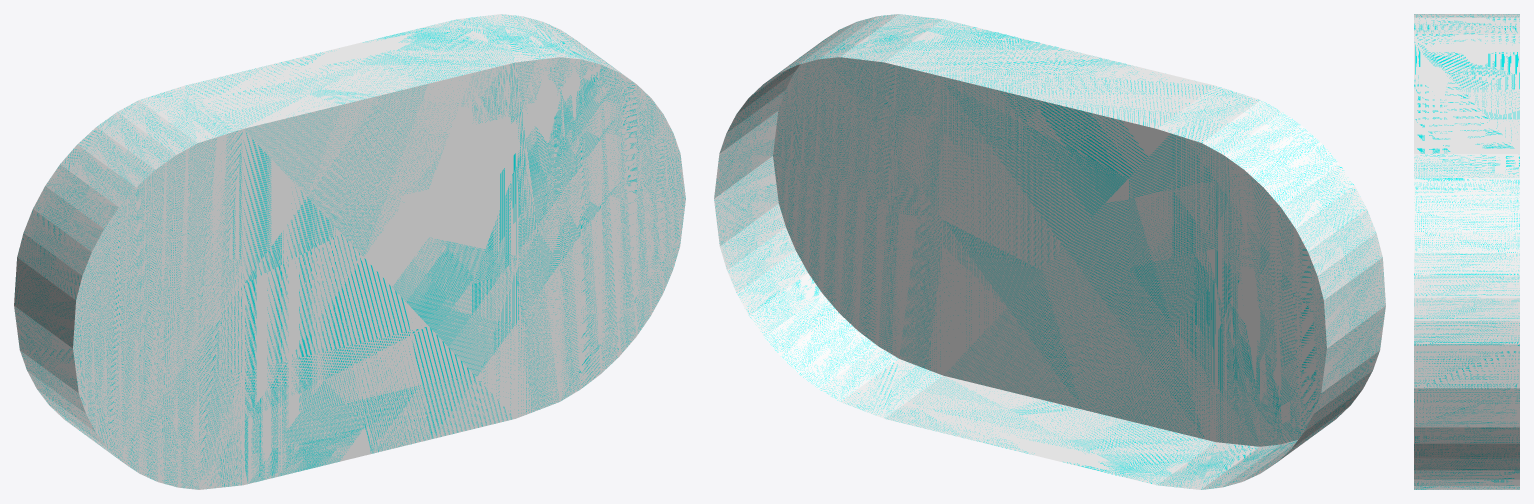
Rendered from original-18.obj.
The picture shows the model from 3 angles, left to right: view 1: azimuth 30°, elevation 25°; view 2: azimuth 150°, elevation 25°; view 3: azimuth 270°, elevation 25°; orthographic projection. The views are drawn at different scales.
Parts seen in each view (by area): view 1: mesh9/mesh9-geometry/material_0/component_5#mesh9-geometry; view 2: mesh9/mesh9-geometry/material_0/component_5#mesh9-geometry; view 3: mesh9/mesh9-geometry/material_0/component_5#mesh9-geometry.
Boxes of the visible parts, left/top/right/bottom form: mesh9/mesh9-geometry/material_0/component_5#mesh9-geometry: left=14, top=14, right=685, bottom=489; mesh9/mesh9-geometry/material_0/component_5#mesh9-geometry: left=714, top=14, right=1385, bottom=489; mesh9/mesh9-geometry/material_0/component_5#mesh9-geometry: left=1414, top=14, right=1519, bottom=489.
Size of the model in its own units: 0.091 by 0.0506 by 0.0152.
